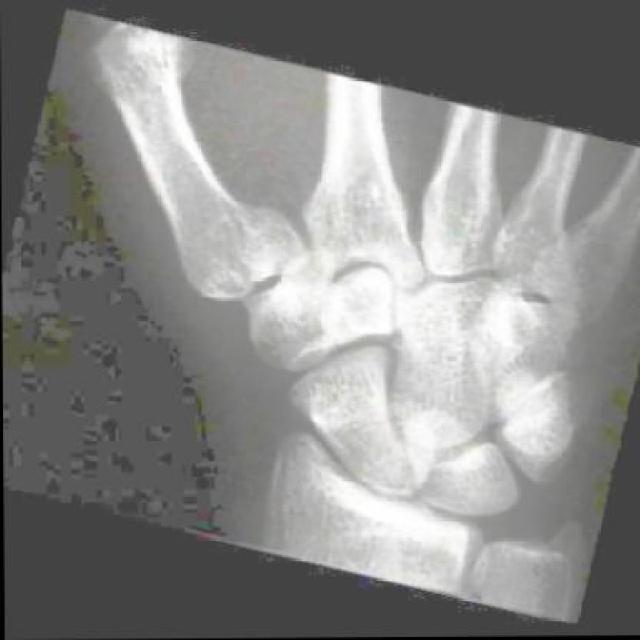Fracture: (196, 177, 312, 289)
